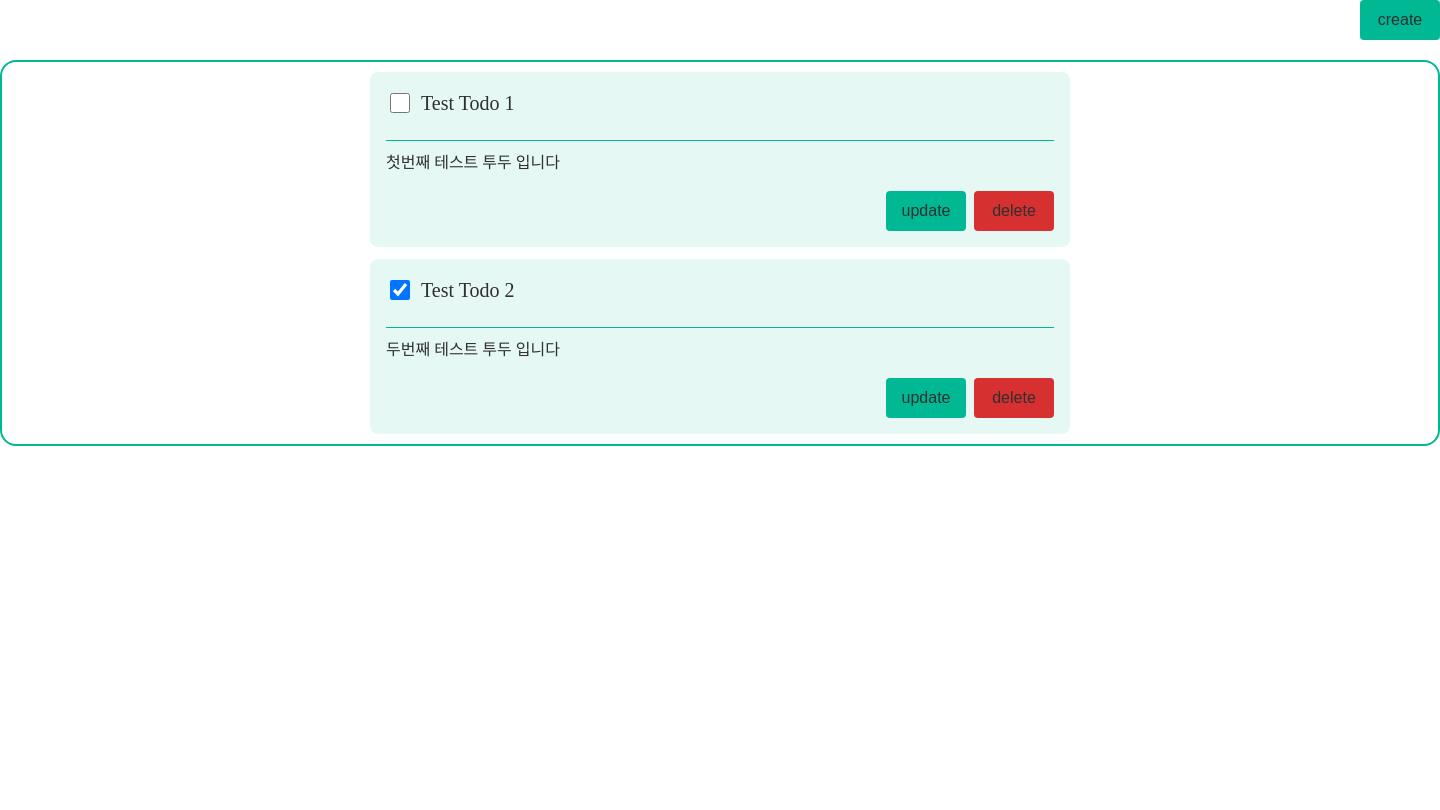
Scenario: TodoListContent 컴포넌트 › create 버튼 클릭 시 TodoFormDialog가 열려야 합니다
The width and height of the screenshot is (1440, 810).
Click the button "create" at (1400, 20), box [1360, 0, 1439, 40]
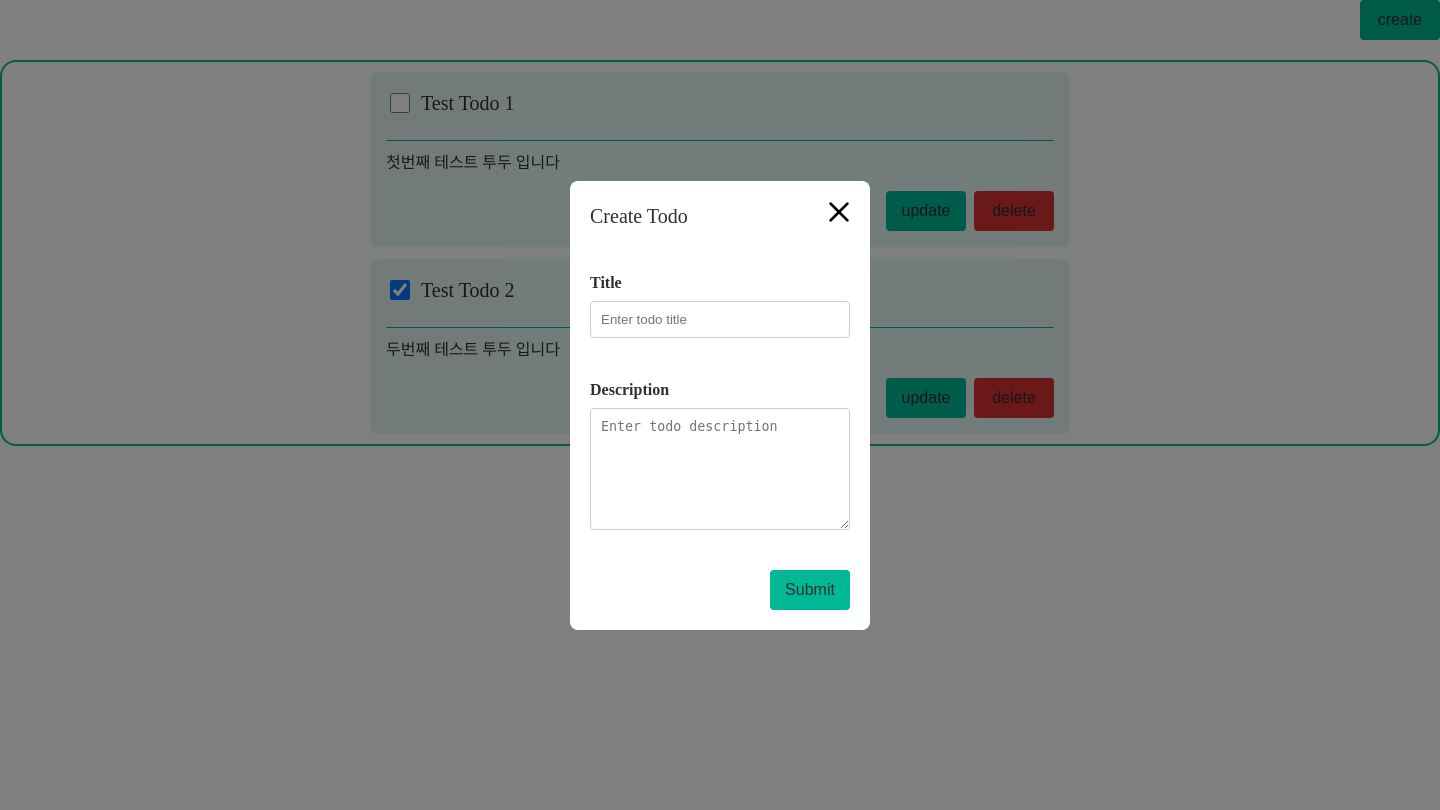
Check: the heading "Create Todo" is shown, box [590, 204, 688, 226]
